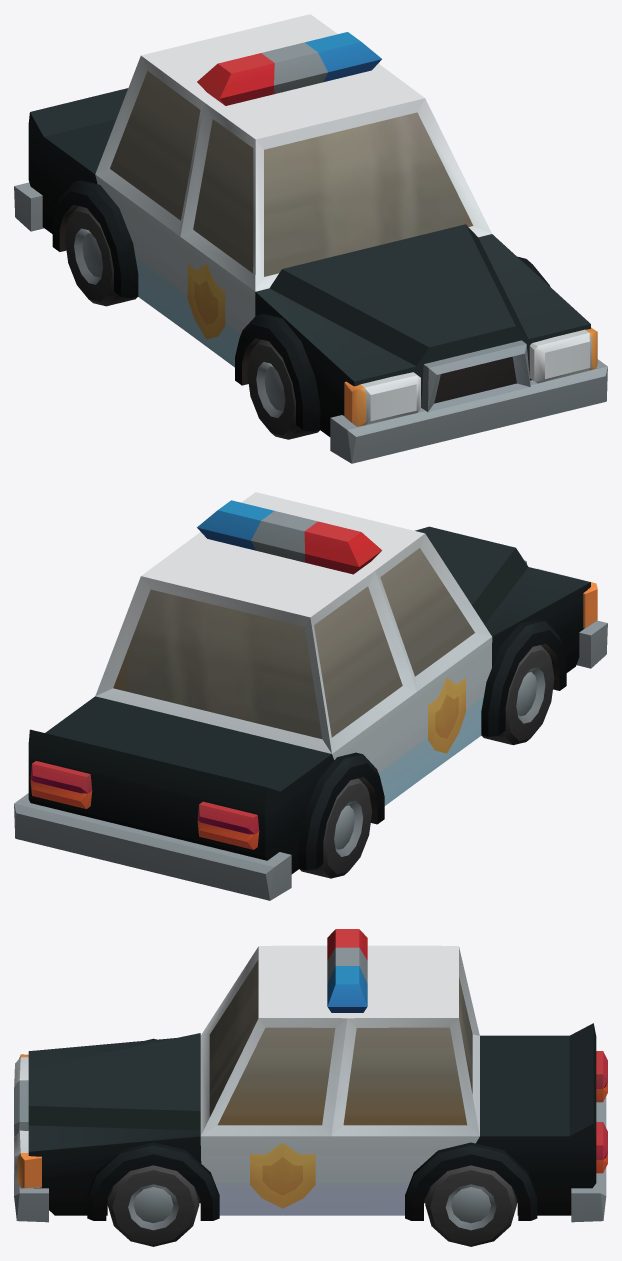
File: kkcity.car_police.glb
3 views of the same model, one above another, from view 1: azimuth 30°, elevation 25°; view 2: azimuth 150°, elevation 25°; view 3: azimuth 270°, elevation 25° (orthographic). The views are drawn at different scales.
Parts seen in each view (by area): view 1: Cube.1022, car_police_wheel_rear_right, car_police_wheel_front_right; view 2: Cube.1022, car_police_wheel_front_right, car_police_wheel_rear_right; view 3: Cube.1022, car_police_wheel_front_left, car_police_wheel_rear_left.
Boxes of the visible parts, <box> form: Cube.1022: <box>14,14,607,463</box>; car_police_wheel_rear_right: <box>65,206,137,306</box>; car_police_wheel_front_right: <box>247,339,319,439</box>; Cube.1022: <box>14,492,607,900</box>; car_police_wheel_front_right: <box>482,645,554,745</box>; car_police_wheel_rear_right: <box>299,778,372,878</box>; Cube.1022: <box>14,929,607,1222</box>; car_police_wheel_front_left: <box>107,1165,199,1246</box>; car_police_wheel_rear_left: <box>425,1165,516,1246</box>.
Size of the model in its own units: 2.01 by 1.98 by 4.5.
Materials: 1 (1 with a texture image).
